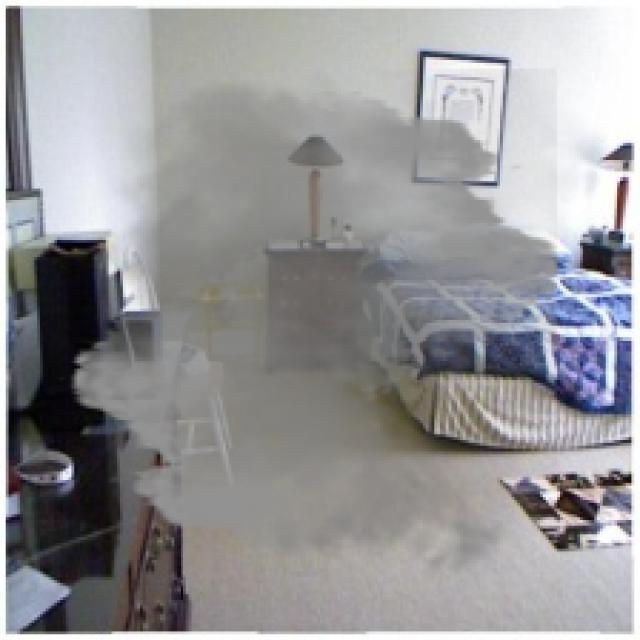smoke: (54, 69, 577, 592)
